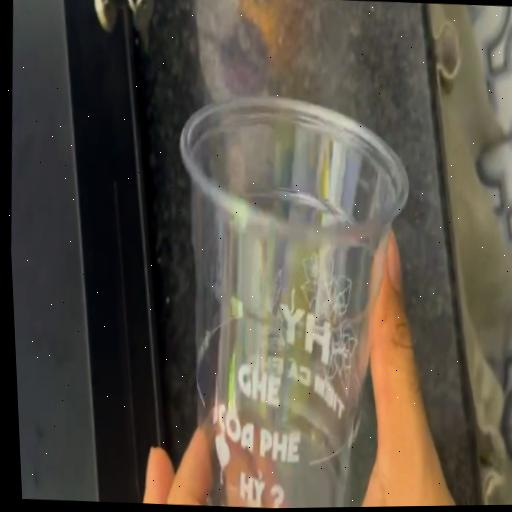ly_nhua: (180, 98, 407, 508)
